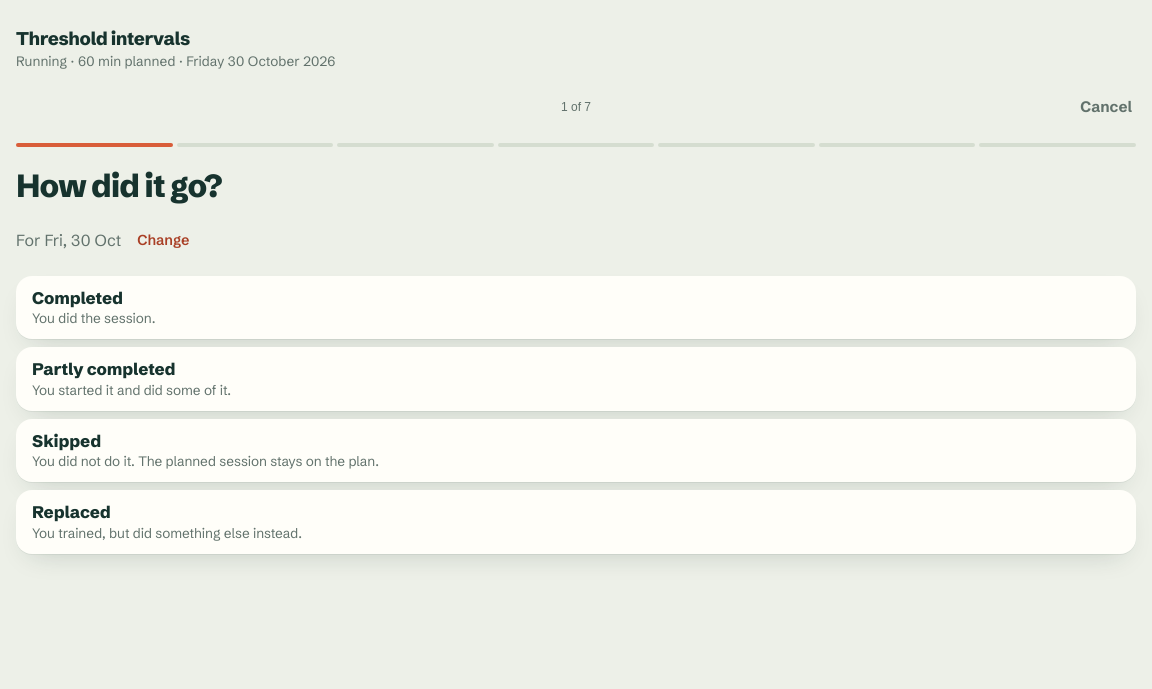
Test: Log › asks what was done instead only once replaced is chosen
The image size is (1152, 689).
Click the button "Replaced You trained, but did something else instead.": click(71, 512) [16,490,1136,554]
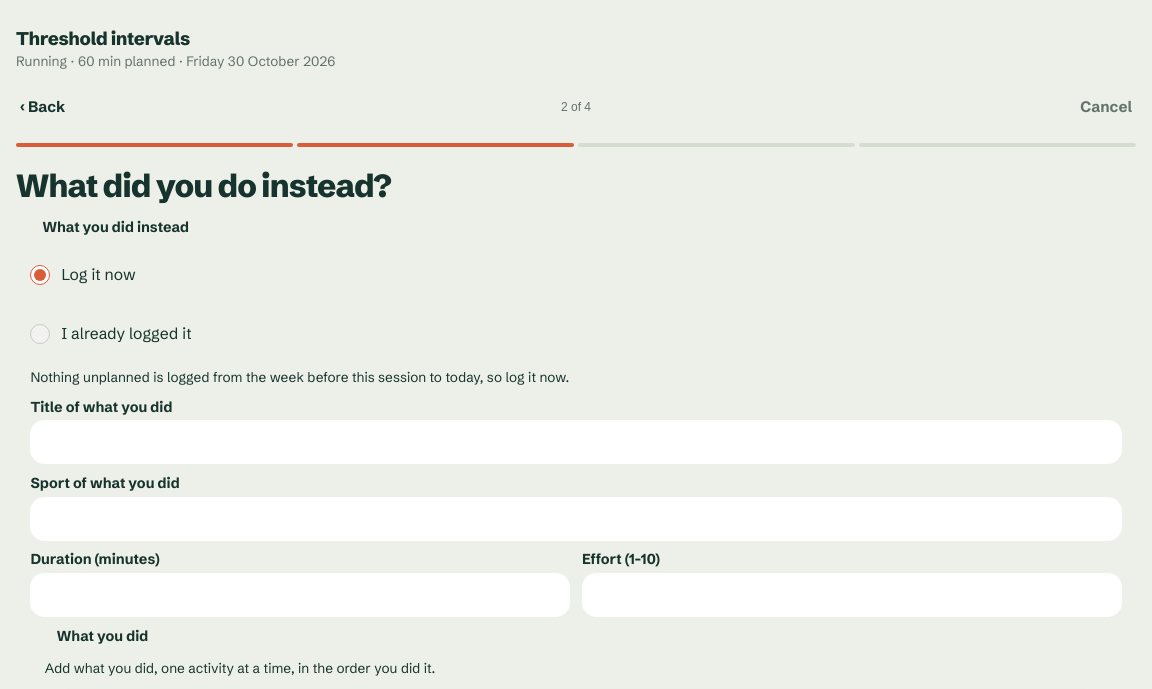
expect the radio button labelled "Log it now" is checked: met, box [30,250,50,300]
expect the radio button labelled "I already logged it" is disabled: met, box [30,309,50,359]
